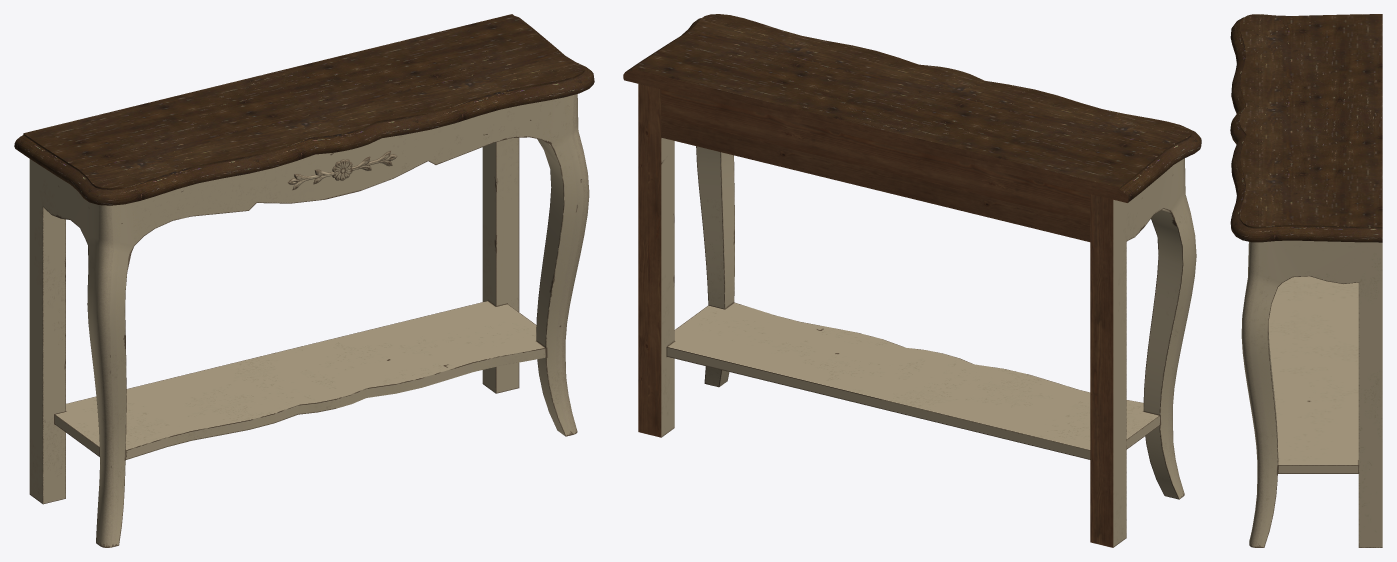
File: example122.gltf
The picture shows the model from 3 angles, left to right: view 1: azimuth 30°, elevation 25°; view 2: azimuth 150°, elevation 25°; view 3: azimuth 270°, elevation 25°; orthographic projection. The views are drawn at different scales.
Bounding box in the file's own units: 110 × 75 × 31.95.
3 materials, 3 textured.
